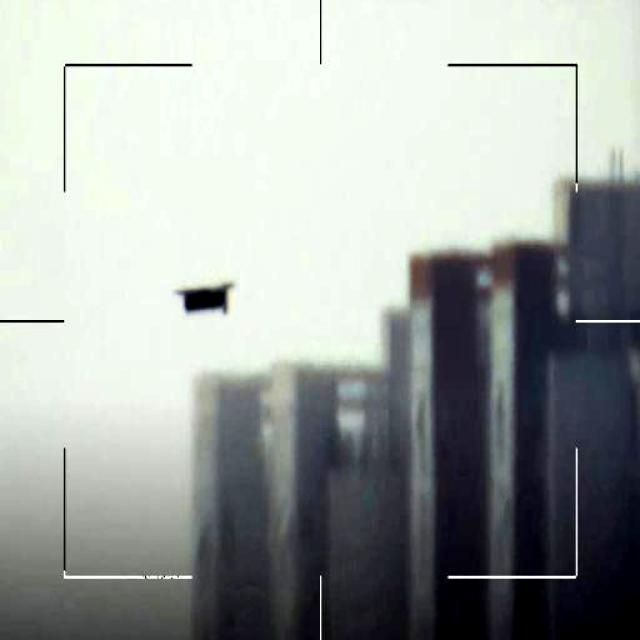bird: (181, 282, 238, 320)
